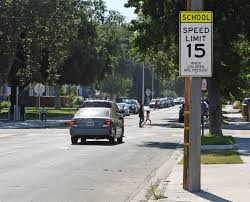speedLimit15: (179, 23, 213, 63)
